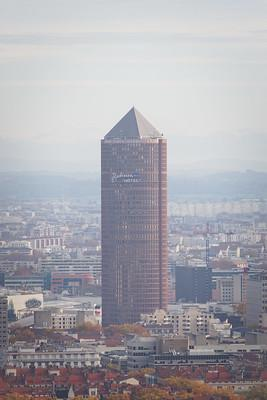building: (97, 104, 171, 342)
